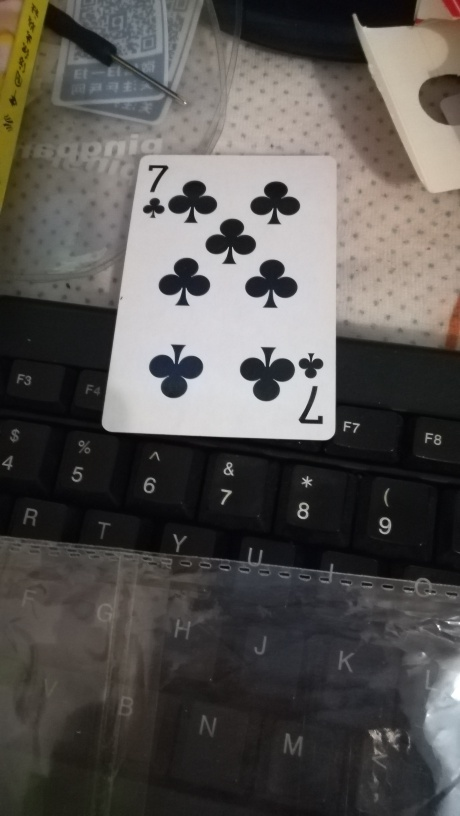mh 7: (97, 154, 337, 447)
